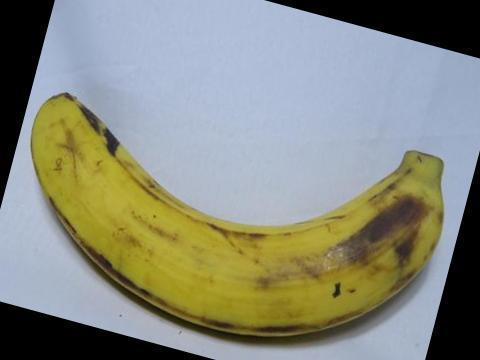overripe: (23, 85, 467, 359)
